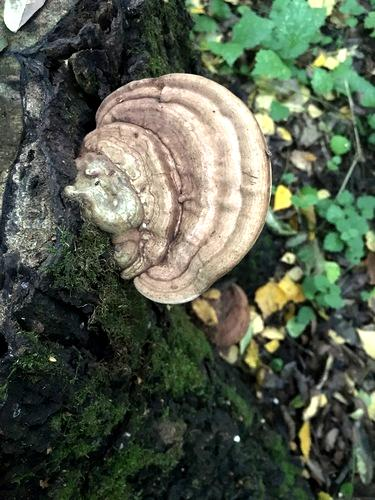Ganoderma - Fruit Body: (67, 70, 271, 307)
